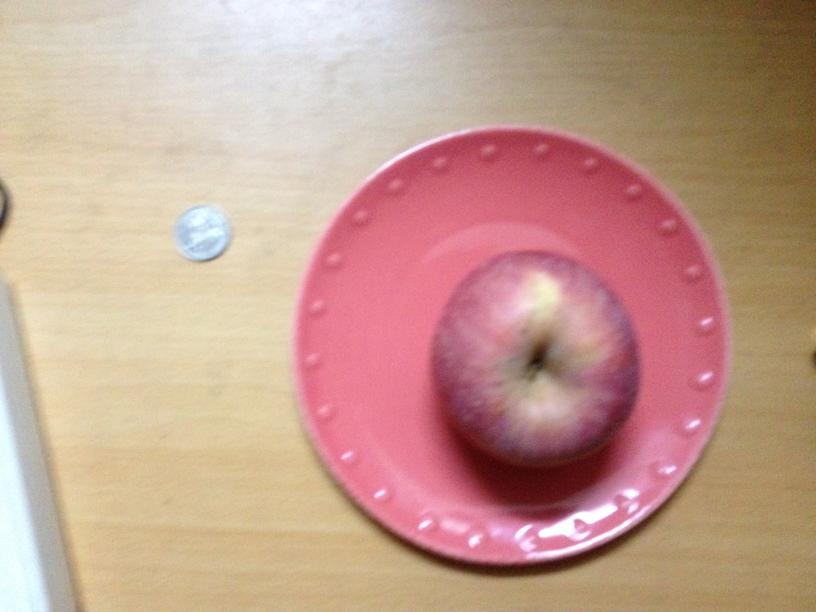apple: (434, 254, 639, 466)
coin: (173, 205, 232, 260)
